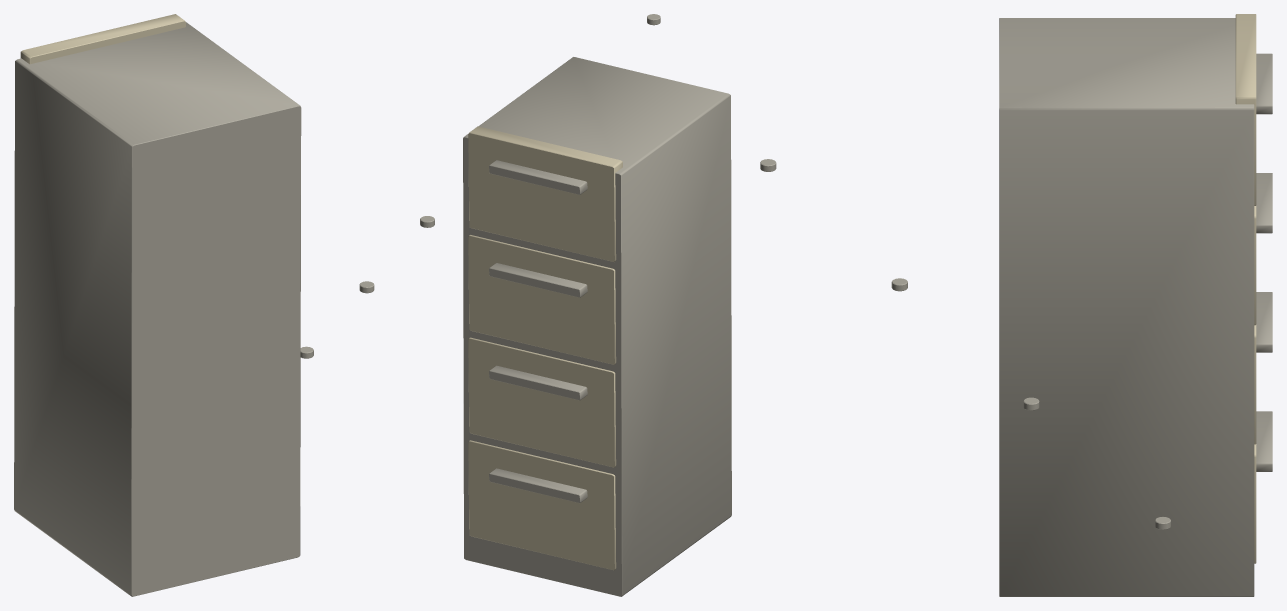
File: LV_filing_cabinet.fbx
3 renders of one model, left to right at view 1: azimuth 30°, elevation 25°; view 2: azimuth 150°, elevation 25°; view 3: azimuth 270°, elevation 25°, orthographic. The views are drawn at different scales.
Visible parts, largest first — view 1: LV_filing_cabinet; view 2: LV_filing_cabinet; view 3: LV_filing_cabinet.
Part boxes in pixels (bbox=[...]): LV_filing_cabinet: bbox=[14, 14, 434, 596]; LV_filing_cabinet: bbox=[463, 14, 731, 596]; LV_filing_cabinet: bbox=[760, 14, 1272, 596].
Bounding box in the file's own units: 0.6 × 1.34 × 1.25.
